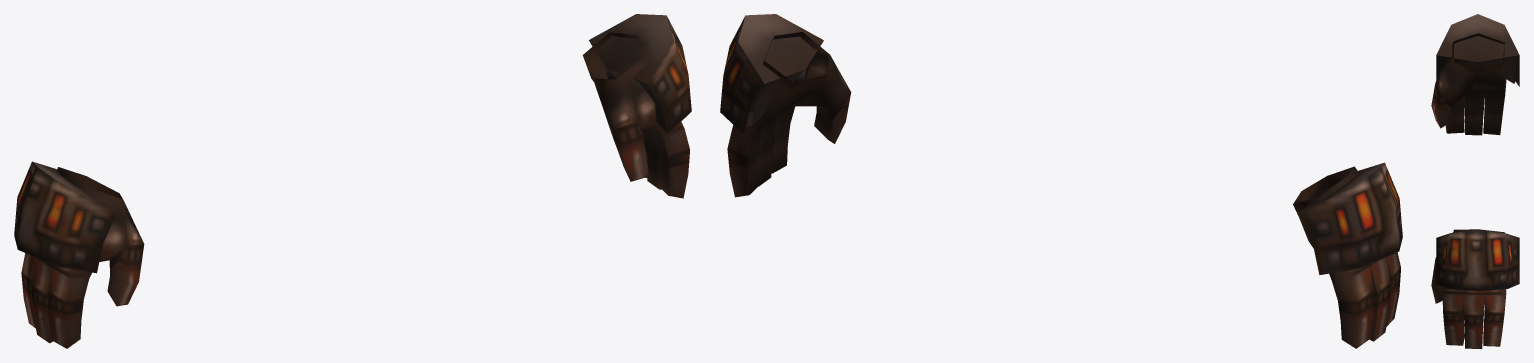
File: hum_dwarf_01_9a7ff28f.glb
3 views of the same model, side by side, from view 1: azimuth 30°, elevation 25°; view 2: azimuth 150°, elevation 25°; view 3: azimuth 270°, elevation 25° (orthographic). The views are drawn at different scales.
Size of the model in its own units: 1.8 by 0.4323 by 0.2901.
1 material, 1 textured.
